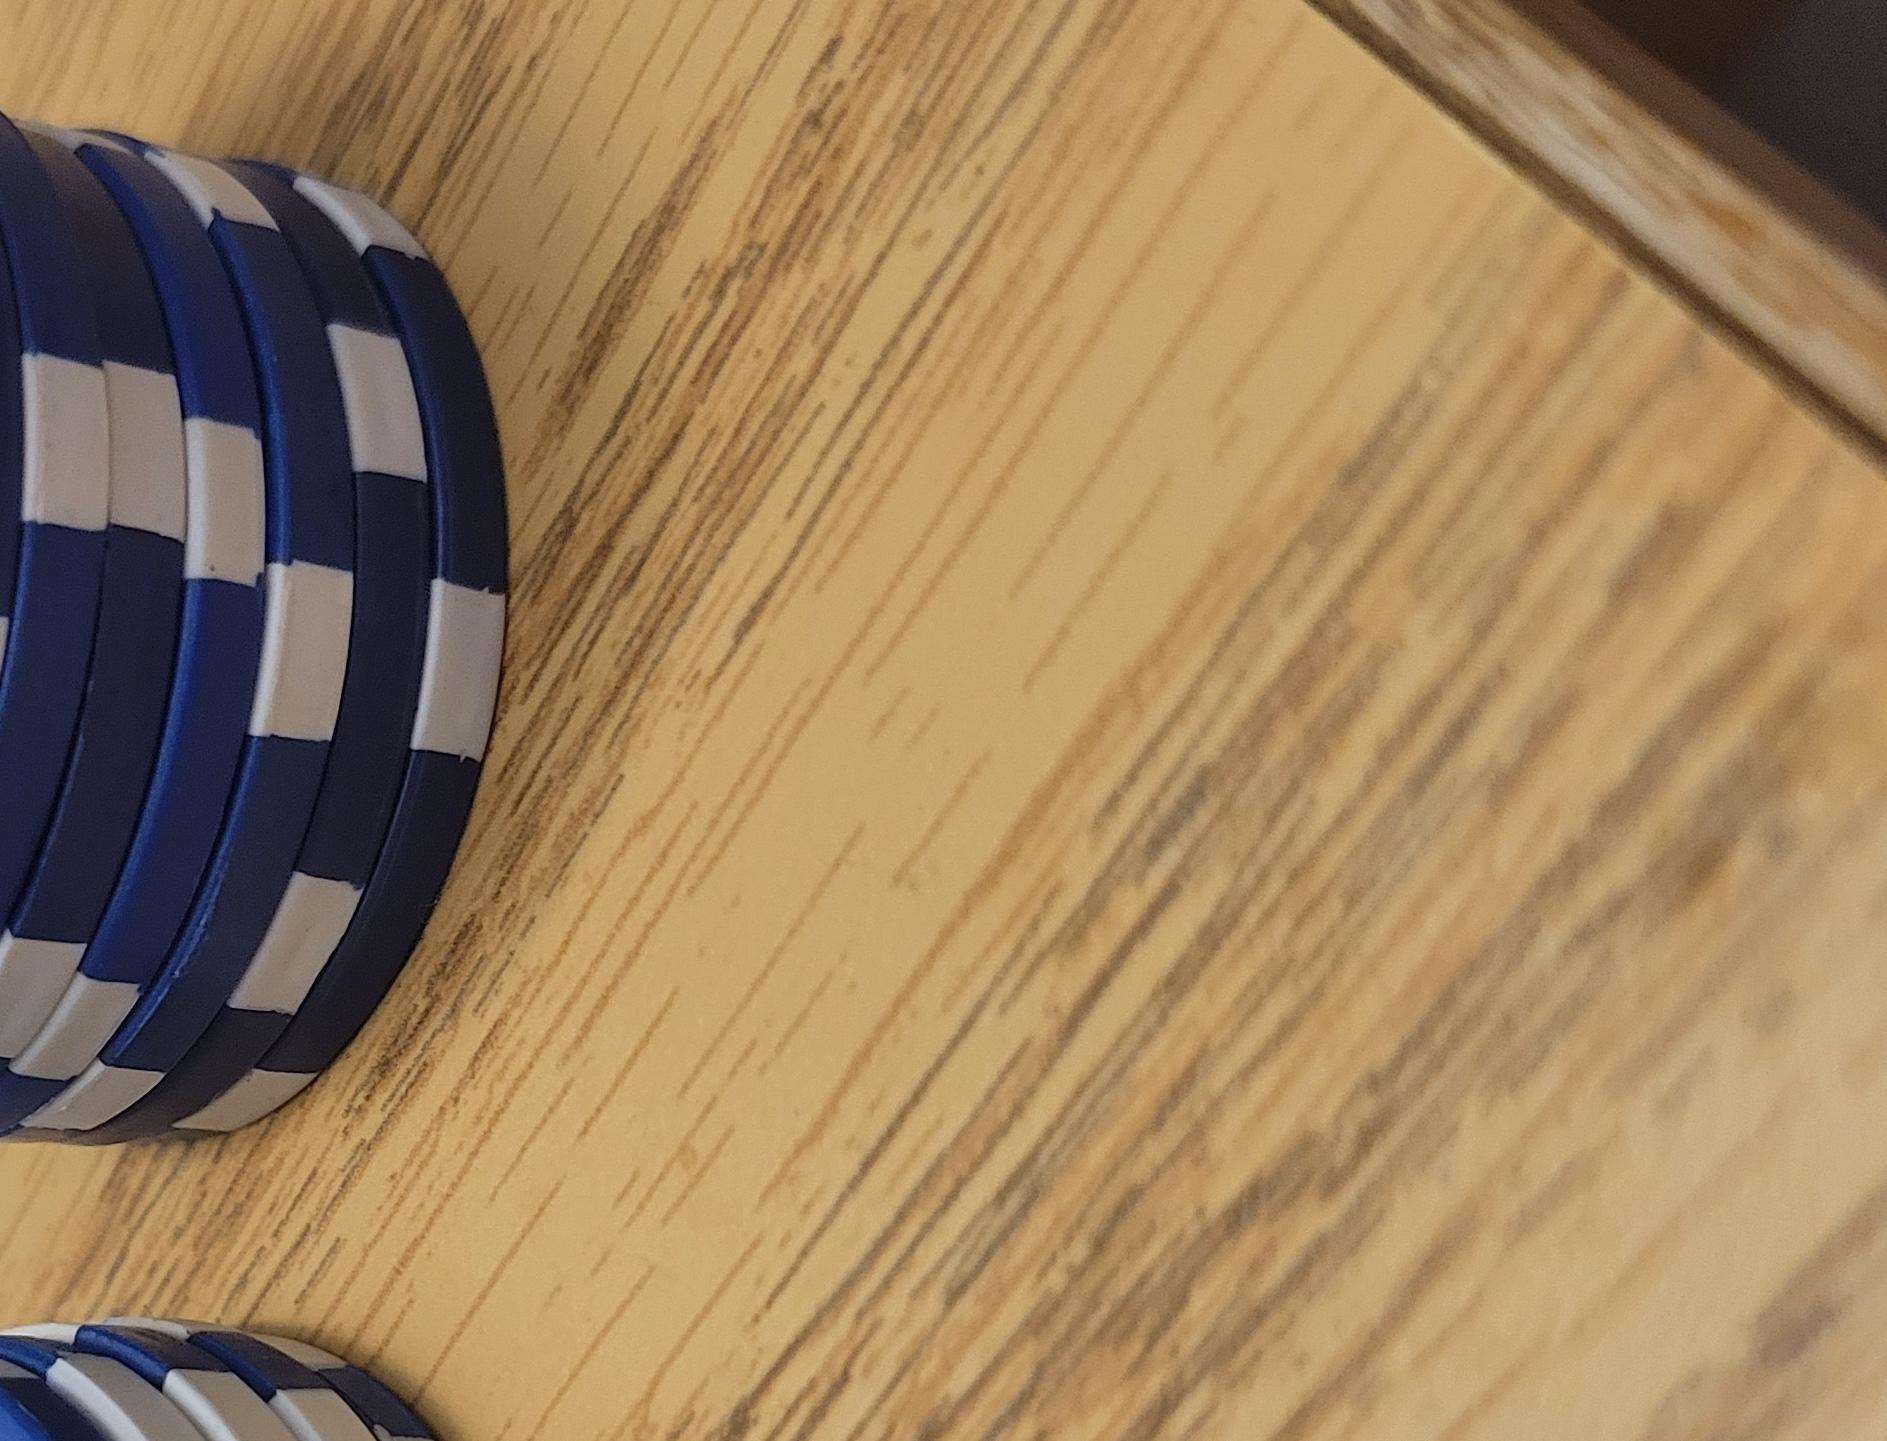Chip: (2, 136, 946, 1441)
